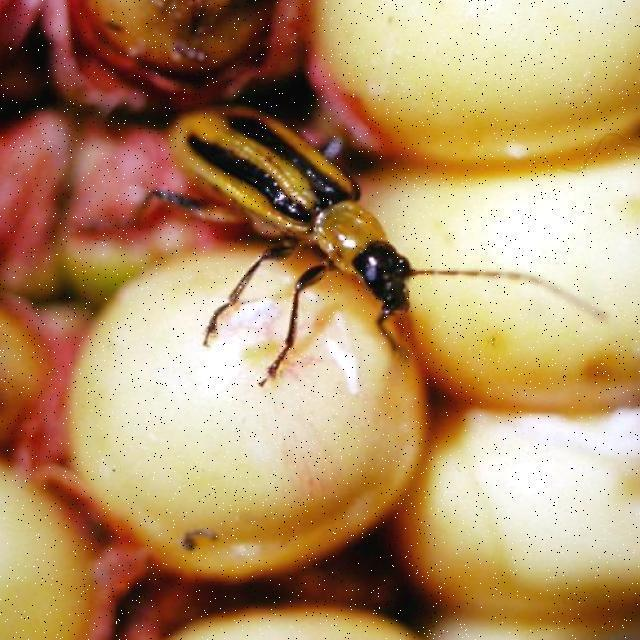trips: (132, 106, 612, 388)
